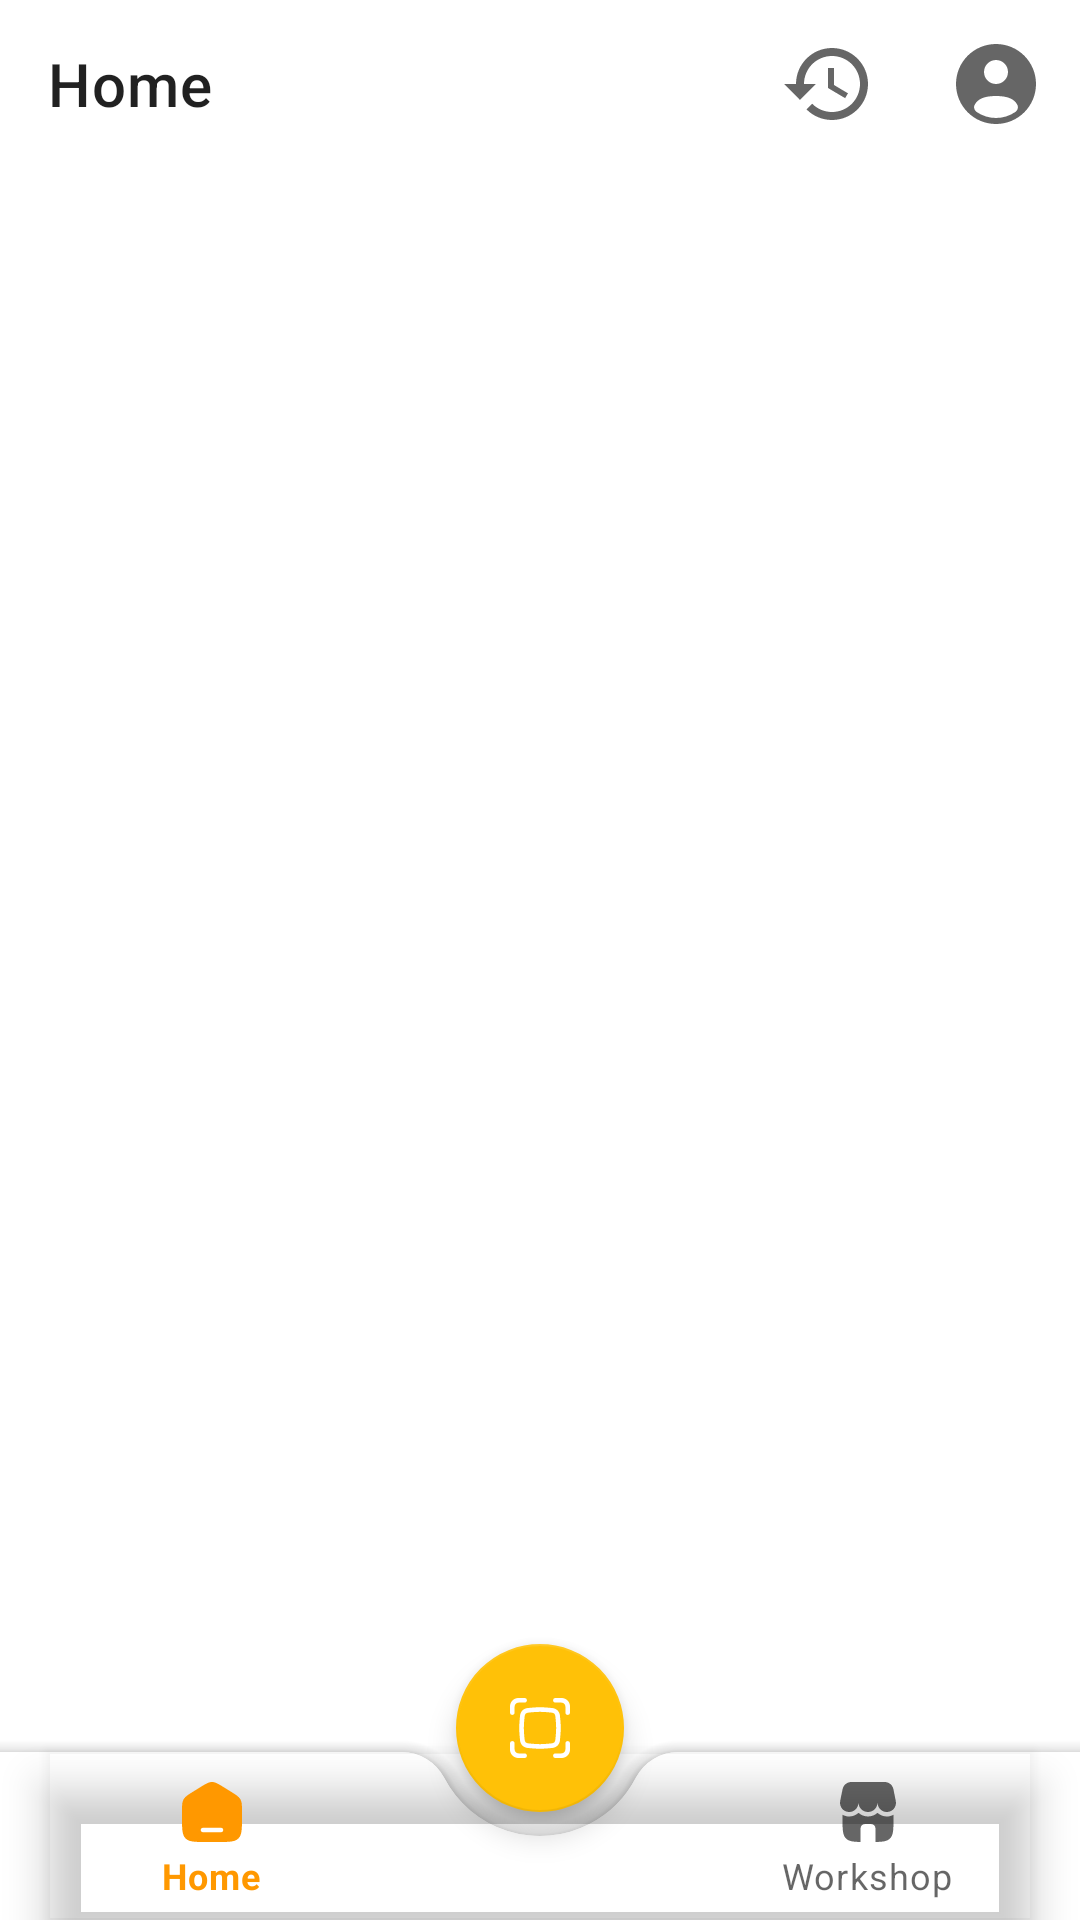

Screen size 1080*1920. Icon name, then its center in pixels as (x,y):
Scan Activity for Classification: (540,1752)
